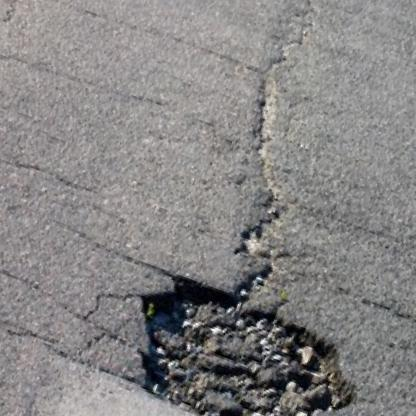pothole: (106, 261, 378, 416)
